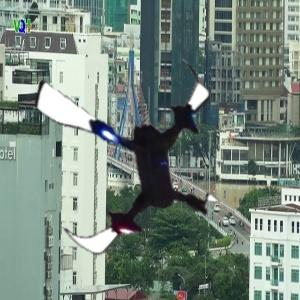drone: (16, 42, 241, 267)
